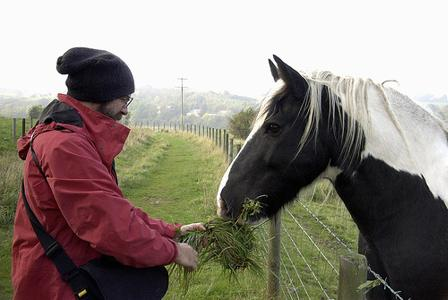person: (10, 47, 205, 300)
